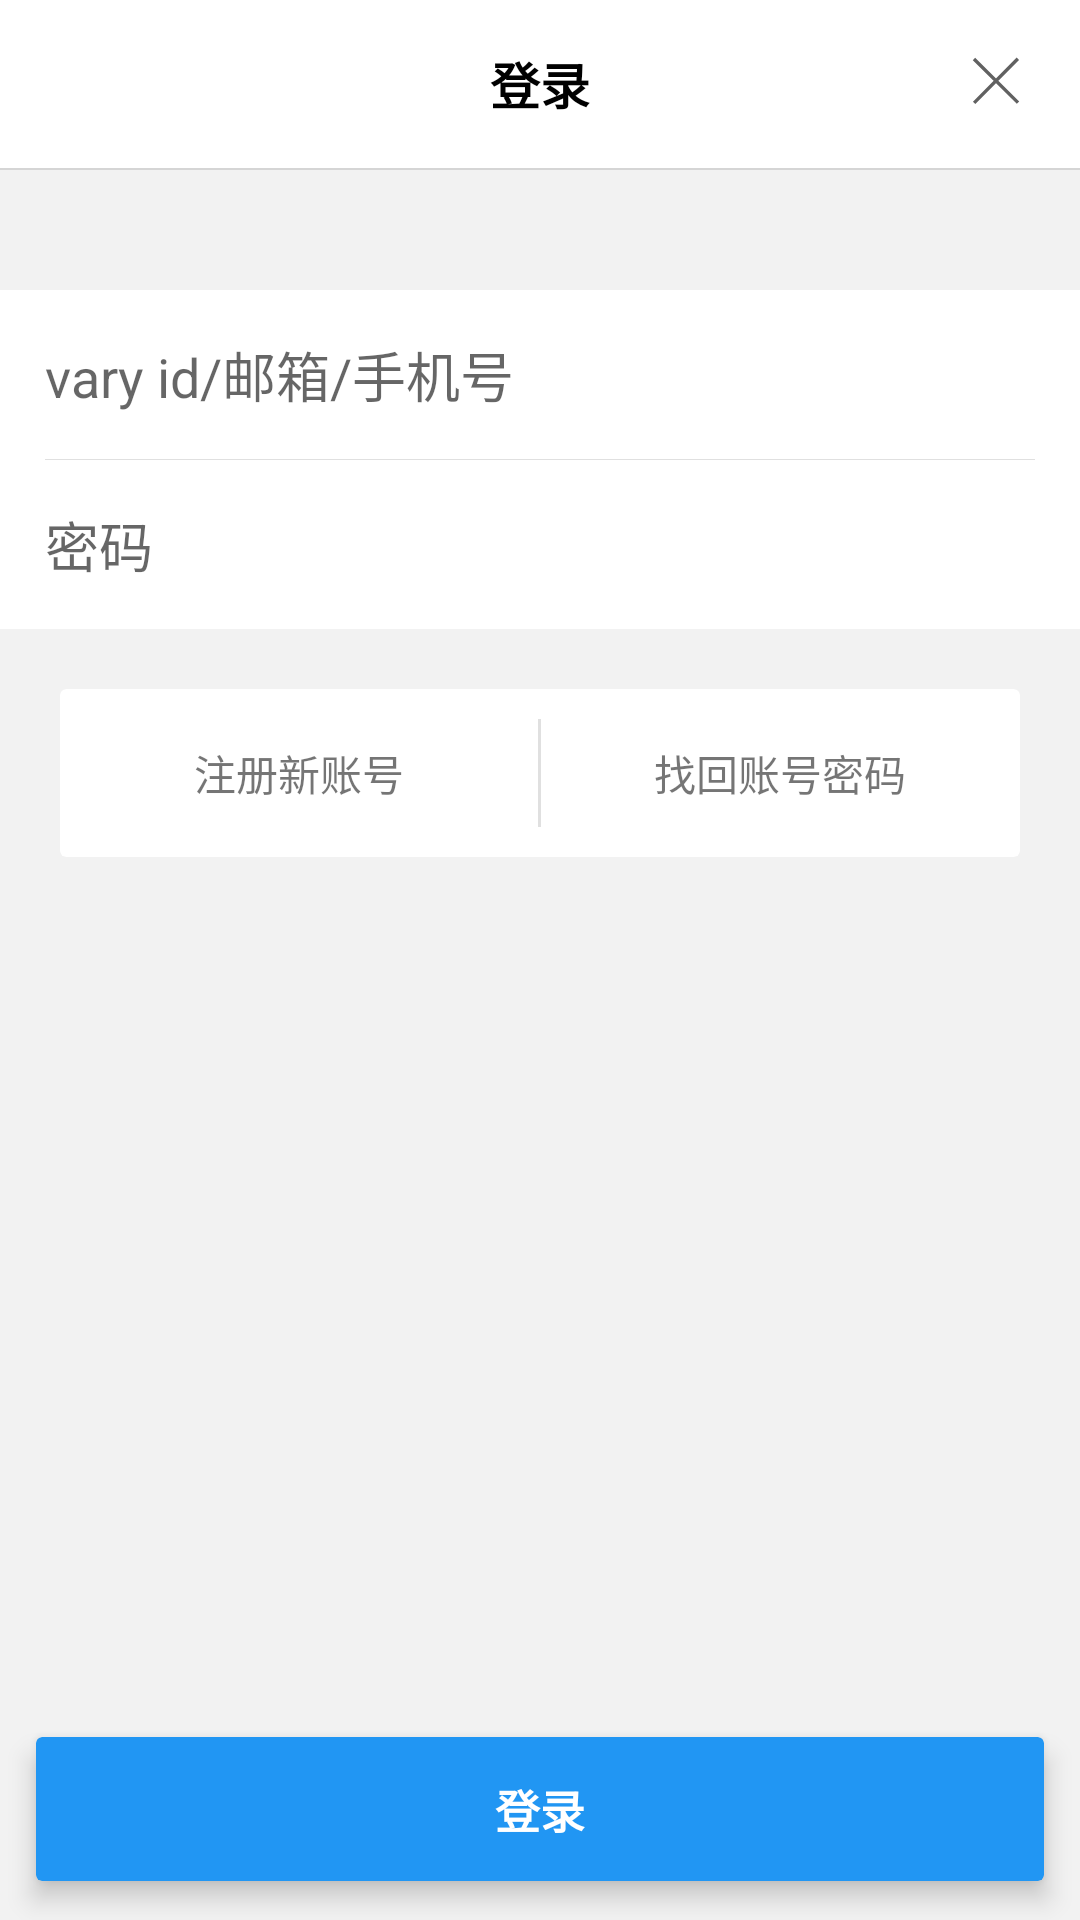

Where icons sit on this 1080 × 1920 app screen, as (x1, y1, x2, y2):
wrong: (973, 57, 1019, 104)
